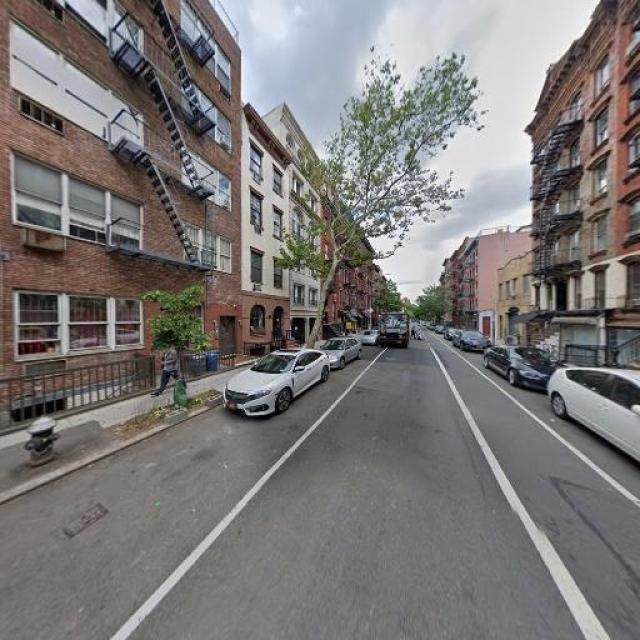Building: (1, 1, 242, 412), (245, 97, 287, 359), (623, 1, 640, 374)
